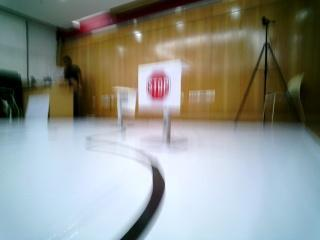stop: (137, 65, 182, 109)
